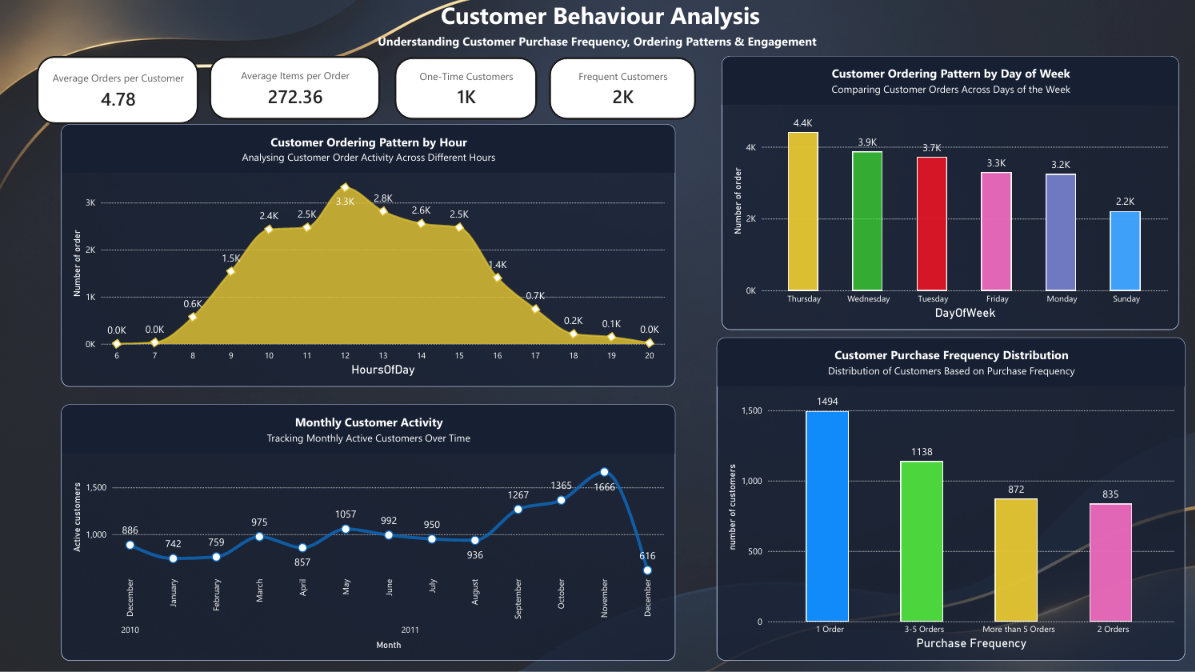

What the dashboard file says about the page in this screenshot:
{"tool":"powerbi","page":{"name":"Page 3","canvas":[1920,1080],"ordinal":2},"visuals":[{"type":"textbox","box":[10.4,0,1910,72.7],"z":0},{"type":"cardVisual","fields":{"Data":["cleaned_online_retail.Average Orders per Customer"]},"box":[63.8,90.6,259.3,109.1],"z":1000},{"type":"cardVisual","fields":{"Data":["cleaned_online_retail.Average Items per Order"]},"box":[339.6,90.6,273.8,102.9],"z":2000},{"type":"cardVisual","fields":{"Data":["cleaned_online_retail.One-Time Customers"]},"box":[636,92.6,228.5,100.9],"z":3000},{"type":"cardVisual","fields":{"Data":["cleaned_online_retail.Frequent Customers"]},"box":[883,92.6,234.6,100.9],"z":4000},{"type":"clusteredColumnChart","title":"Customer Purchase Frequency Distribution","fields":{"Category":["cleaned_online_retail.Purchase Frequency"],"Y":["Count(cleaned_online_retail.CustomerID)"]},"box":[1150.6,541.3,749.2,516.6],"z":5000},{"type":"clusteredColumnChart","title":"Customer Ordering Pattern by Day of Week","fields":{"Category":["cleaned_online_retail.DayOfWeek"],"Y":["Count(cleaned_online_retail.InvoiceNo)"]},"box":[1158.8,90.6,730.7,438.4],"z":6000},{"type":"areaChart","title":"Customer Ordering Pattern by Hour","fields":{"Category":["cleaned_online_retail.HoursOfDay"],"Y":["Count(cleaned_online_retail.InvoiceNo)"]},"box":[102.9,199.7,981.8,419.9],"z":7000},{"type":"lineChart","title":"Monthly Customer Activity","fields":{"Category":["cleaned_online_retail.InvoiceDate.Variation.Date Hierarchy.Year","cleaned_online_retail.InvoiceDate.Variation.Date Hierarchy.Month"],"Y":["Count(cleaned_online_retail.CustomerID)"]},"box":[102.9,648.4,981.8,409.6],"z":8000},{"type":"textbox","box":[0,53.5,1920.4,61.7],"z":9000}]}

Visuals, with their boxes in screenshot pixels (x1, y1, x2, y2), scaled from the page's 1920x1080 canvas onto the 1195x672 screenshot:
textbox: box(6, 0, 1194, 45)
cardVisual - cleaned_online_retail.Average Orders per Customer: box(40, 56, 201, 124)
cardVisual - cleaned_online_retail.Average Items per Order: box(211, 56, 382, 120)
cardVisual - cleaned_online_retail.One-Time Customers: box(396, 58, 538, 120)
cardVisual - cleaned_online_retail.Frequent Customers: box(550, 58, 696, 120)
"Customer Purchase Frequency Distribution" clusteredColumnChart: box(716, 337, 1182, 658)
"Customer Ordering Pattern by Day of Week" clusteredColumnChart: box(721, 56, 1176, 329)
"Customer Ordering Pattern by Hour" areaChart: box(64, 124, 675, 386)
"Monthly Customer Activity" lineChart: box(64, 403, 675, 658)
textbox: box(0, 33, 1194, 72)
